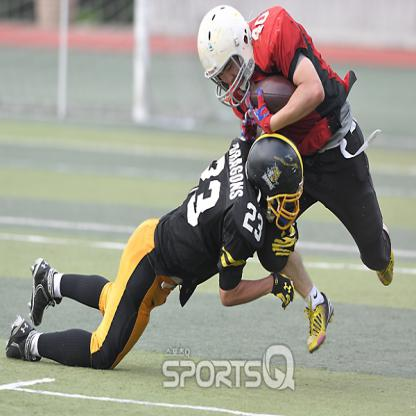Fall_Down: (8, 137, 302, 370)
